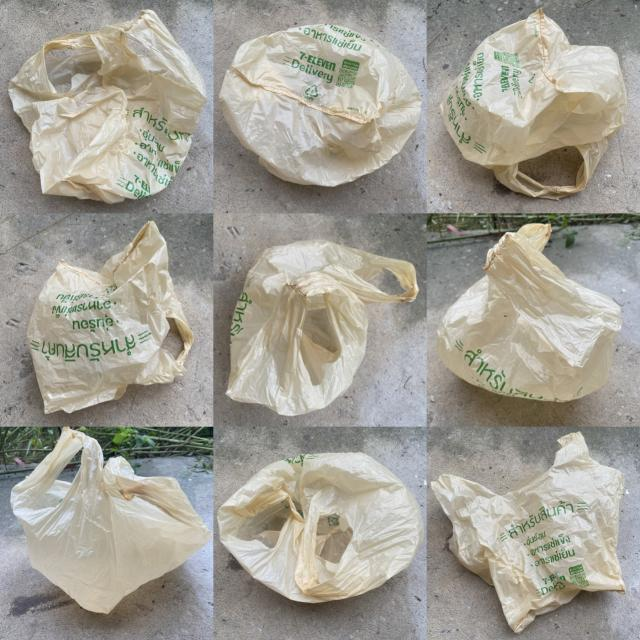Single-layer Plastic: (431, 432, 625, 632), (9, 10, 206, 204), (11, 428, 211, 613), (440, 9, 626, 198), (226, 240, 419, 416), (436, 224, 621, 401), (219, 24, 421, 186), (28, 221, 194, 413), (218, 452, 424, 602)
